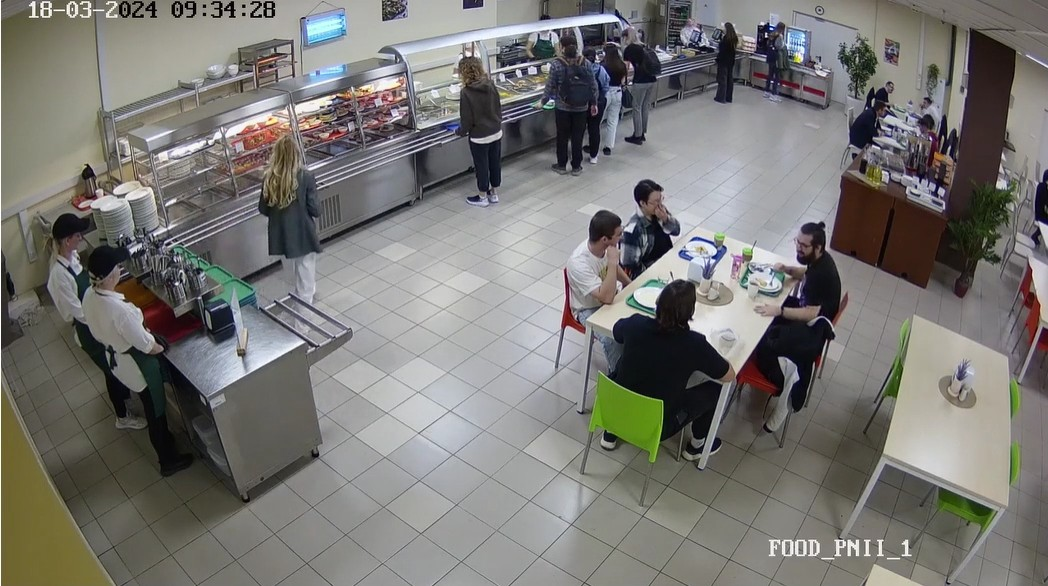Na_Kasse: (710, 22, 741, 103), (759, 20, 792, 95)
Ne_v_Ocheredi: (1027, 158, 1048, 252)
Personal: (70, 241, 204, 484), (32, 204, 150, 437), (522, 16, 555, 56), (454, 29, 488, 66), (676, 9, 703, 44)
Vybiraet: (254, 123, 318, 333), (448, 53, 496, 216), (547, 31, 593, 183), (621, 26, 662, 145), (578, 45, 606, 163), (604, 37, 624, 154)
Za_Stolom: (573, 276, 718, 484), (538, 198, 635, 369), (751, 215, 850, 322), (632, 177, 679, 263), (844, 94, 886, 173), (901, 116, 937, 161), (868, 75, 897, 106), (914, 93, 941, 124)
